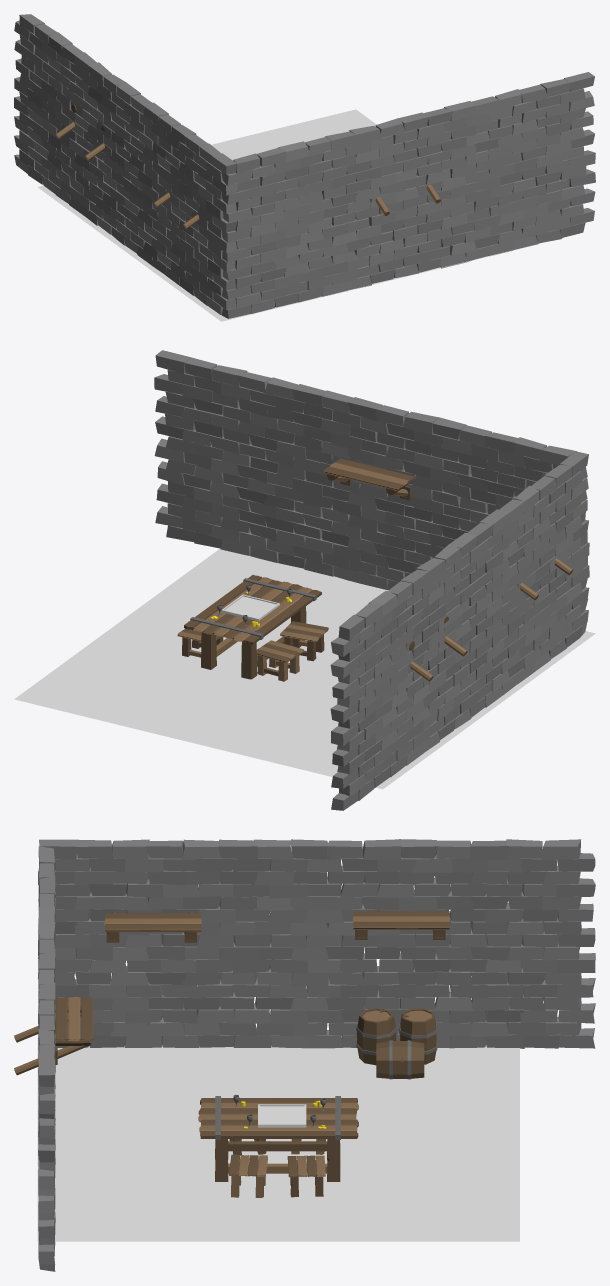
3 views of the same model, one above another, from view 1: azimuth 30°, elevation 25°; view 2: azimuth 150°, elevation 25°; view 3: azimuth 270°, elevation 25° (orthographic). The views are drawn at different scales.
Parts seen in each view (by area): view 1: Cube.032, Cube.035, Plane; view 2: Cube.032, Cube.035, Plane, Cube.045, Cube.102, Cube.036, Cube.042, Cube.092, Cube.037, Cube.076; view 3: Cube.035, Plane, Cube.032, Barrel.004, Barrel.001, Barrel.002, Cube.042, Cube.045, Cube.102, Cube.046, Cube.095, Cube.037 (+11 smaller).
Boxes of the visible parts, x1=… form: Cube.032: x1=221, y1=72, x2=595, y2=318; Cube.035: x1=14, y1=14, x2=237, y2=314; Plane: x1=37, y1=109, x2=539, y2=321; Cube.032: x1=154, y1=350, x2=587, y2=636; Cube.035: x1=330, y1=451, x2=589, y2=810; Plane: x1=14, y1=548, x2=595, y2=789; Cube.045: x1=201, y1=586, x2=306, y2=679; Cube.102: x1=221, y1=594, x2=279, y2=620; Cube.036: x1=243, y1=589, x2=321, y2=644; Cube.042: x1=184, y1=575, x2=261, y2=629; Cube.092: x1=323, y1=466, x2=402, y2=490; Cube.037: x1=234, y1=587, x2=311, y2=641; Cube.076: x1=257, y1=655, x2=299, y2=681; Cube.035: x1=38, y1=839, x2=595, y2=1048; Plane: x1=37, y1=1038, x2=519, y2=1241; Cube.032: x1=38, y1=846, x2=55, y2=1271; Barrel.004: x1=376, y1=1040, x2=424, y2=1079; Barrel.001: x1=356, y1=1008, x2=396, y2=1065; Barrel.002: x1=399, y1=1008, x2=437, y2=1064; Cube.042: x1=200, y1=1131, x2=358, y2=1138; Cube.045: x1=215, y1=1139, x2=340, y2=1181; Cube.102: x1=258, y1=1104, x2=306, y2=1127; Cube.046: x1=228, y1=1141, x2=327, y2=1151; Cube.095: x1=353, y1=921, x2=449, y2=929; Cube.037: x1=201, y1=1102, x2=358, y2=1110.
Bounding box in the file's own units: 11.05 × 4.28 × 10.98.
